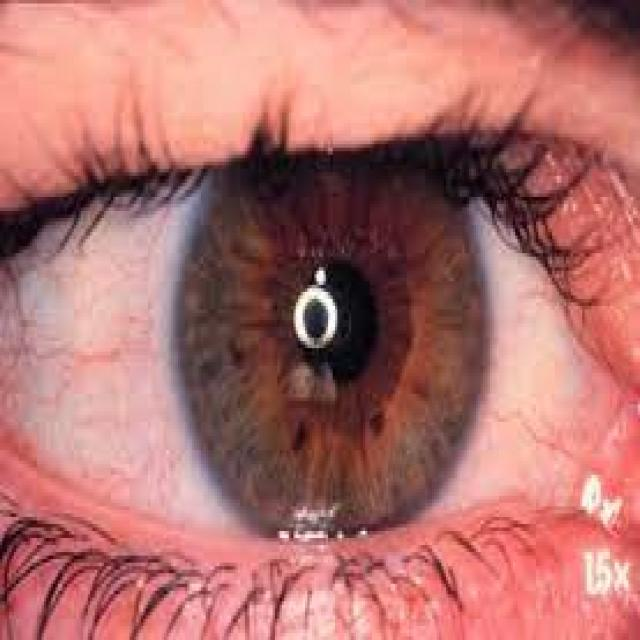Eyes-iris: (168, 138, 496, 546)
